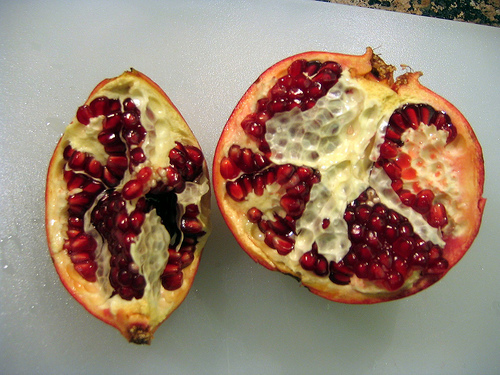pomogranate: (212, 46, 489, 306), (43, 69, 212, 346)
